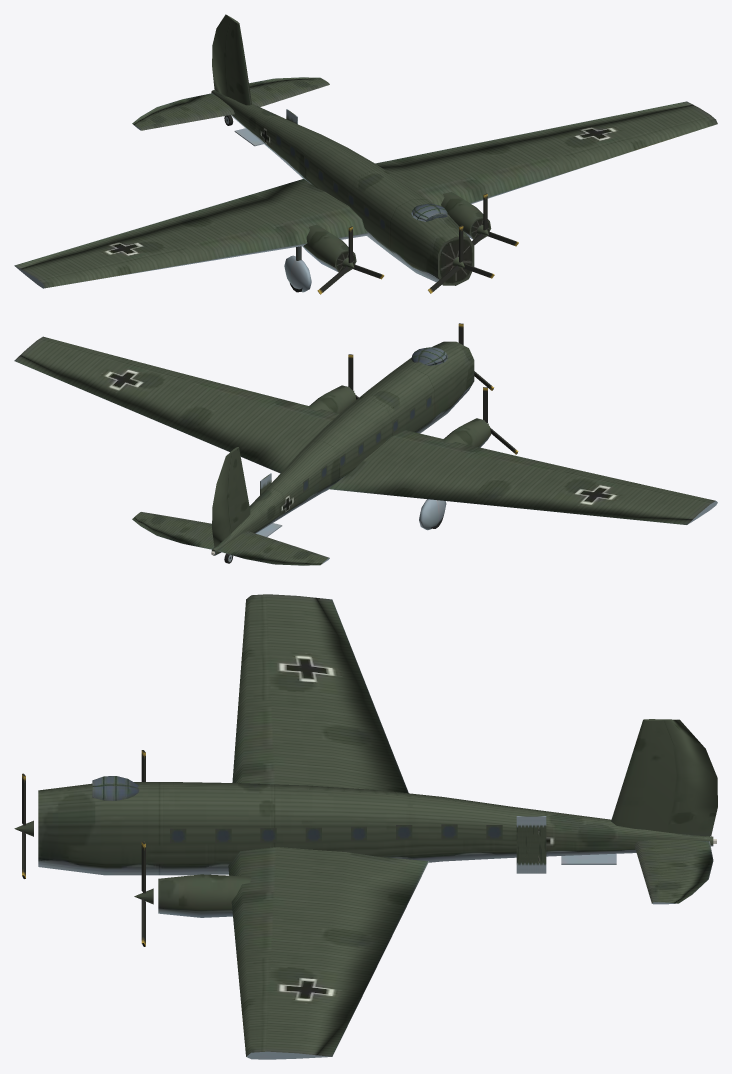
The model's file is airTransport.glb.
3 renders of one model, top to bottom at view 1: azimuth 30°, elevation 25°; view 2: azimuth 150°, elevation 25°; view 3: azimuth 270°, elevation 25°, orthographic. The views are drawn at different scales.
Parts seen in each view (by area): view 1: fuselage, gear_right, hublots, prop_right_pales, prop_center_pales; view 2: fuselage, gear_right, hublots; view 3: fuselage, hublots, cabin_door.
Boxes of the visible parts, x1,y1,x2,y2 form: fuselage: [14, 14, 717, 288]; gear_right: [284, 246, 311, 292]; hublots: [275, 133, 385, 231]; prop_right_pales: [317, 226, 384, 294]; prop_center_pales: [428, 225, 494, 293]; fuselage: [14, 336, 717, 565]; gear_right: [419, 499, 446, 530]; hublots: [303, 395, 431, 492]; fuselage: [38, 594, 717, 1059]; hublots: [170, 824, 502, 843]; cabin_door: [516, 816, 546, 873].
Bounding box in the file's own units: 29.25 × 6.53 × 19.02.
Materials: 6 (5 with a texture image).
